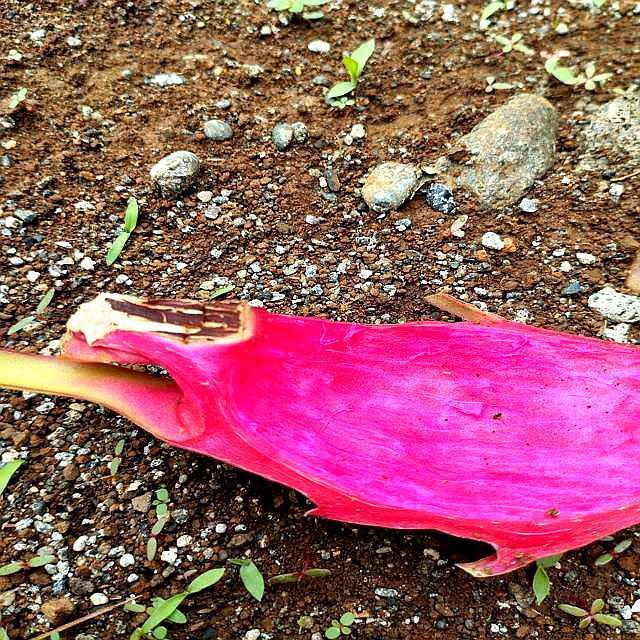Biodegradable: (45, 287, 640, 541)
